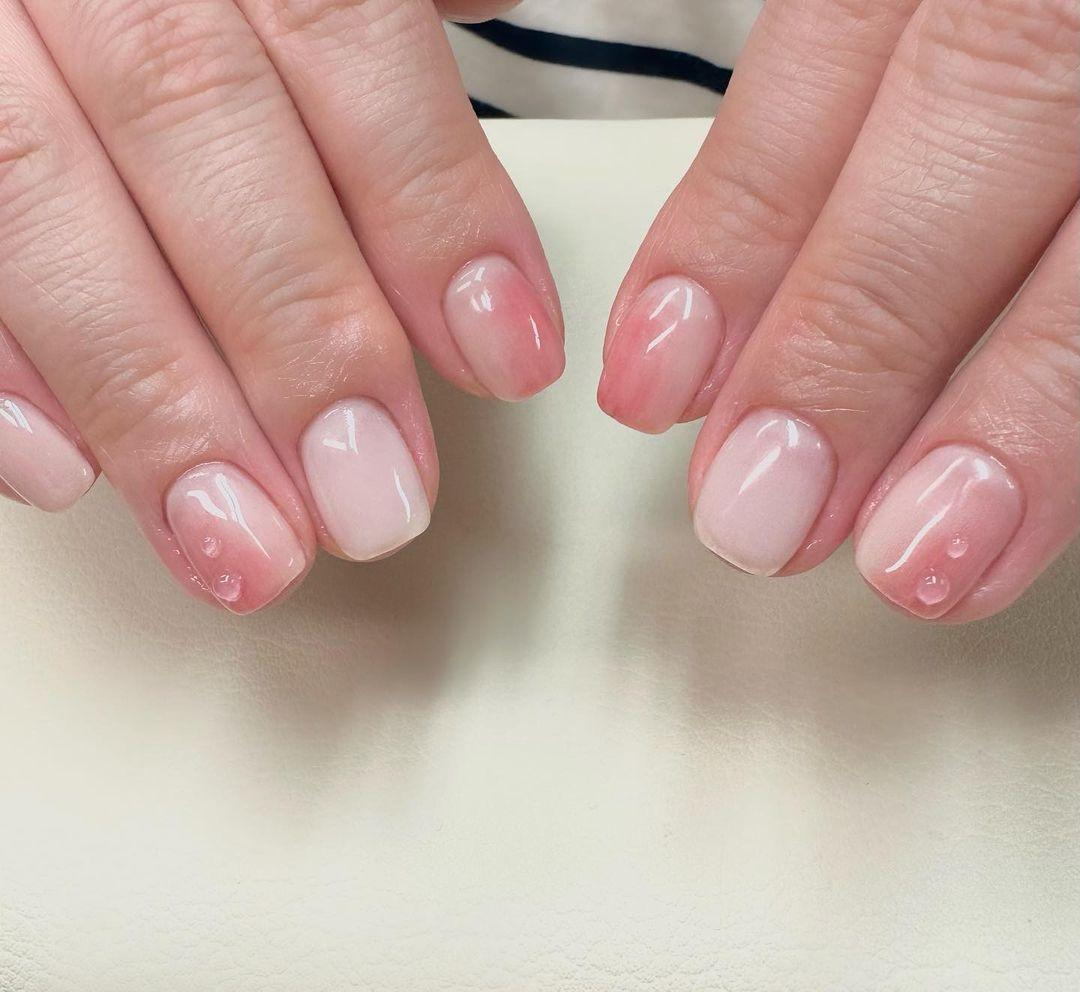nail: (852, 439, 1025, 620), (690, 404, 837, 576), (296, 393, 432, 562), (162, 458, 307, 615), (595, 271, 725, 434), (440, 250, 566, 402), (0, 389, 97, 512)
